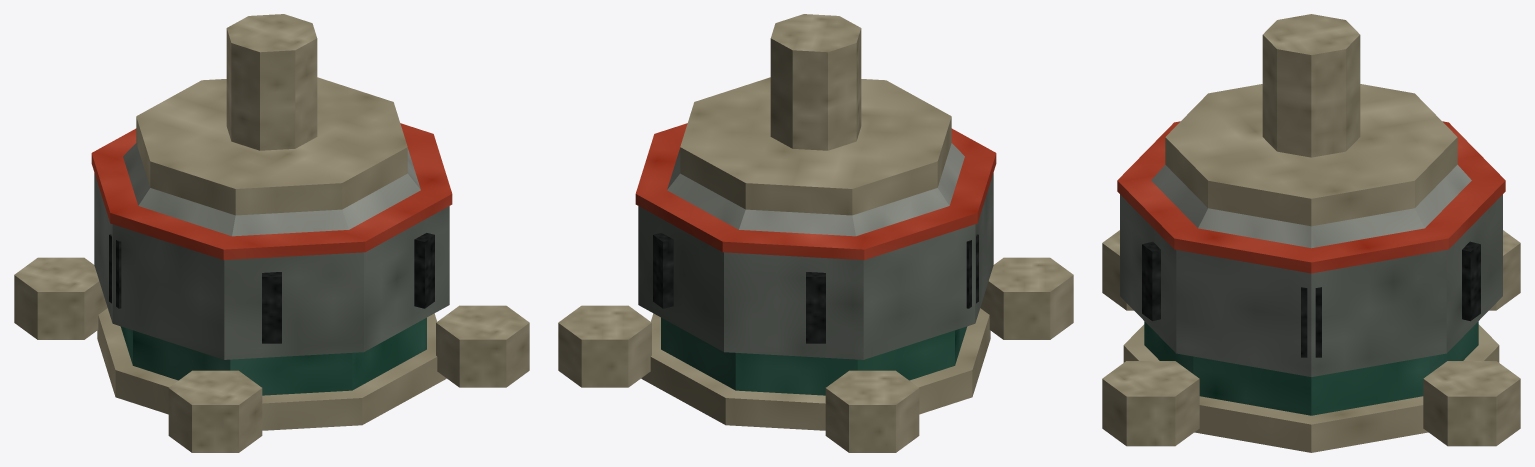
The model's file is DR_Motor.fbx.
3 views of the same model, side by side, from view 1: azimuth 30°, elevation 25°; view 2: azimuth 150°, elevation 25°; view 3: azimuth 270°, elevation 25° (orthographic). The views are drawn at different scales.
Visible parts, largest first — view 1: MotorBell, MotorCap, MotorMarkingBand, MotorShaft, MotorBase, MotorStator, MotorShoulder, MotorMountEar.-1.-1, MotorMountEar.1.-1, MotorMountEar.-1.1, MotorVent.5, MotorVent.4 (+1 smaller); view 2: MotorBell, MotorCap, MotorMarkingBand, MotorShaft, MotorBase, MotorStator, MotorShoulder, MotorMountEar.-1.1, MotorMountEar.1.1, MotorMountEar.-1.-1, MotorVent.1, MotorVent.2 (+1 smaller); view 3: MotorBell, MotorCap, MotorMarkingBand, MotorShaft, MotorStator, MotorBase, MotorShoulder, MotorMountEar.1.-1, MotorMountEar.1.1, MotorVent.1, MotorVent.5, MotorMountEar.-1.-1 (+2 smaller).
Part boxes in pixels (x1,y1,x2,y2): MotorBell: [94, 173, 449, 359]; MotorCap: [136, 77, 407, 215]; MotorMarkingBand: [91, 123, 452, 260]; MotorShaft: [226, 14, 317, 150]; MotorBase: [97, 308, 446, 430]; MotorStator: [120, 317, 426, 395]; MotorShoulder: [123, 143, 420, 236]; MotorMountEar.-1.-1: [168, 370, 262, 452]; MotorMountEar.1.-1: [436, 305, 529, 387]; MotorMountEar.-1.1: [14, 257, 107, 339]; MotorVent.5: [414, 233, 434, 308]; MotorVent.4: [262, 272, 281, 343]; MotorBell: [638, 173, 993, 359]; MotorCap: [680, 77, 951, 215]; MotorMarkingBand: [635, 123, 996, 260]; MotorShaft: [770, 14, 861, 150]; MotorBase: [641, 308, 990, 430]; MotorStator: [661, 317, 967, 395]; MotorShoulder: [667, 143, 964, 236]; MotorMountEar.-1.1: [825, 370, 919, 452]; MotorMountEar.1.1: [558, 305, 651, 387]; MotorMountEar.-1.-1: [980, 257, 1073, 339]; MotorVent.1: [653, 233, 673, 308]; MotorVent.2: [806, 272, 825, 343]; MotorBell: [1120, 194, 1502, 376]; MotorCap: [1165, 84, 1457, 226]; MotorMarkingBand: [1117, 121, 1505, 273]; MotorShaft: [1262, 14, 1360, 157]; MotorStator: [1144, 321, 1478, 415]; MotorBase: [1123, 324, 1499, 452]; MotorShoulder: [1151, 164, 1471, 248]; MotorMountEar.1.-1: [1102, 361, 1199, 446]; MotorMountEar.1.1: [1423, 361, 1520, 446]; MotorVent.1: [1462, 241, 1480, 321]; MotorVent.5: [1142, 241, 1160, 321]; MotorMountEar.-1.-1: [1102, 230, 1133, 310].
Size of the model in its own units: 1.17 by 1.08 by 1.2.
1 material, 1 textured.
